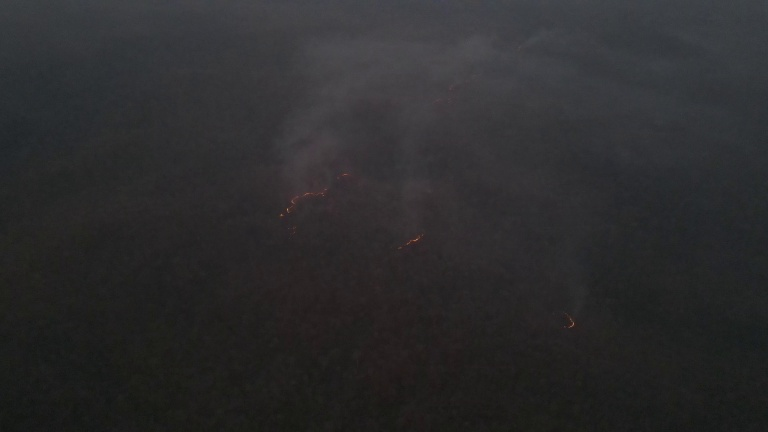fire: (278, 182, 332, 233), (395, 230, 425, 253), (559, 306, 582, 331), (331, 170, 355, 179)
smoke: (271, 34, 495, 218)
